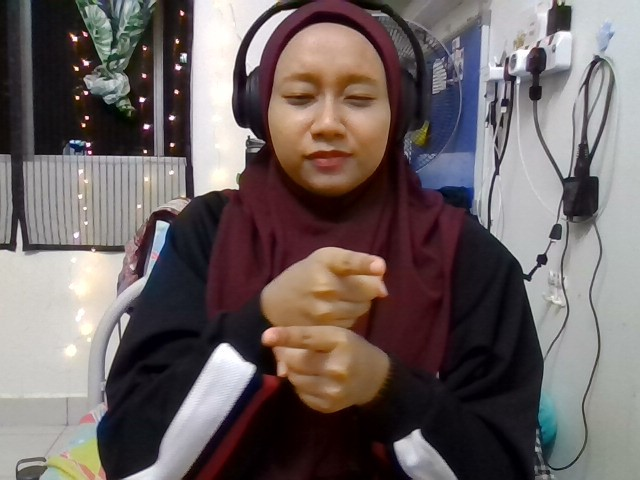Betul: (263, 246, 386, 414)
